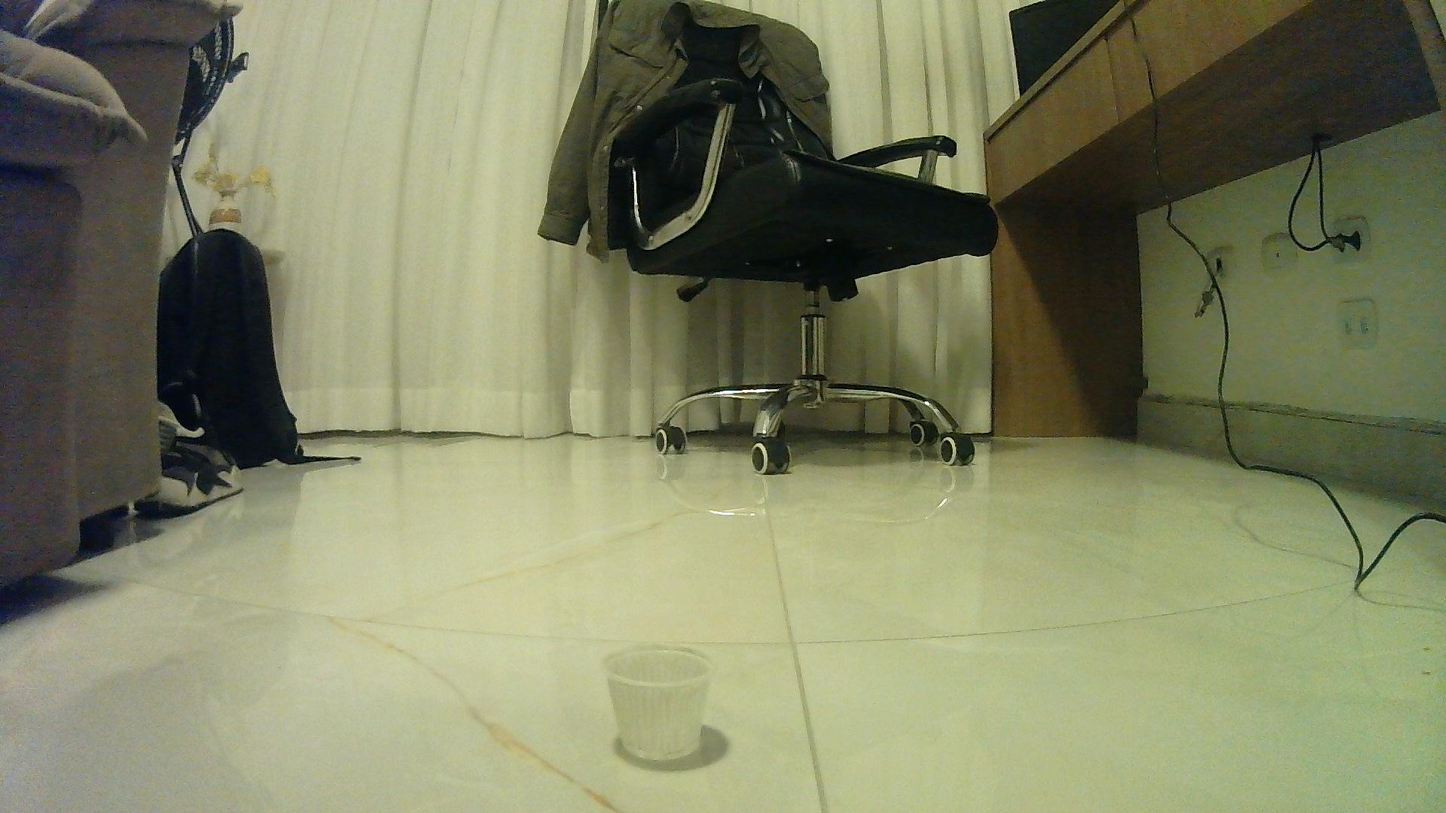planta: (601, 643, 714, 762)
